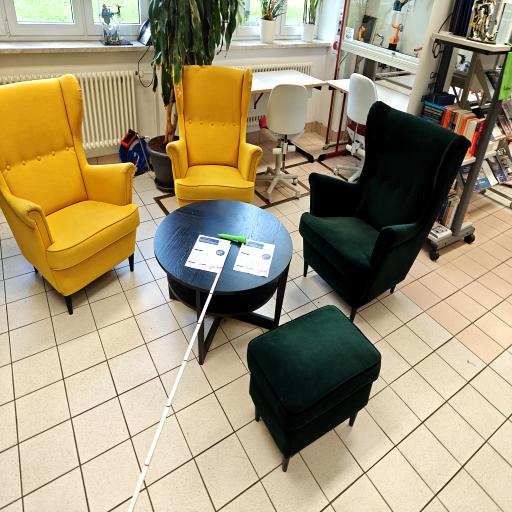Probe-Detection: (217, 234, 246, 243)
